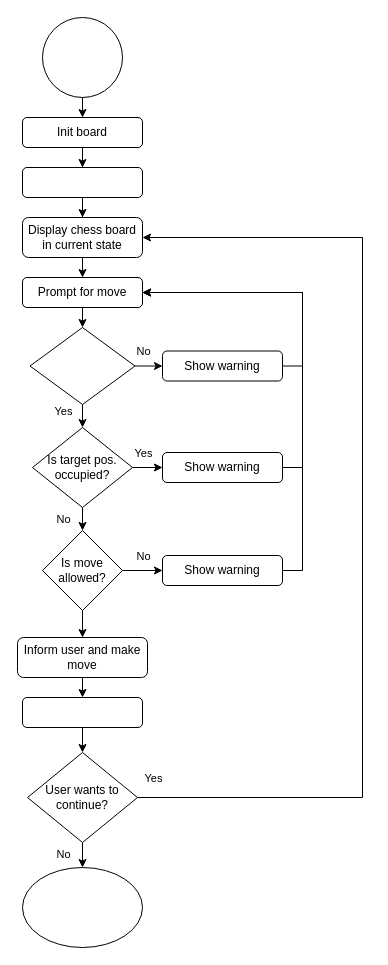
This 388x965 diagram has some shape labels left out. The centre of each missing label's shape, as x and y in pixels:
"End game" belongs at point (82, 907).
"Is current pos. occupied?" belongs at point (82, 365).
"Prompt for color" belongs at point (82, 182).
"Start Game" belongs at point (82, 57).
"Switch color" belongs at point (82, 712).
